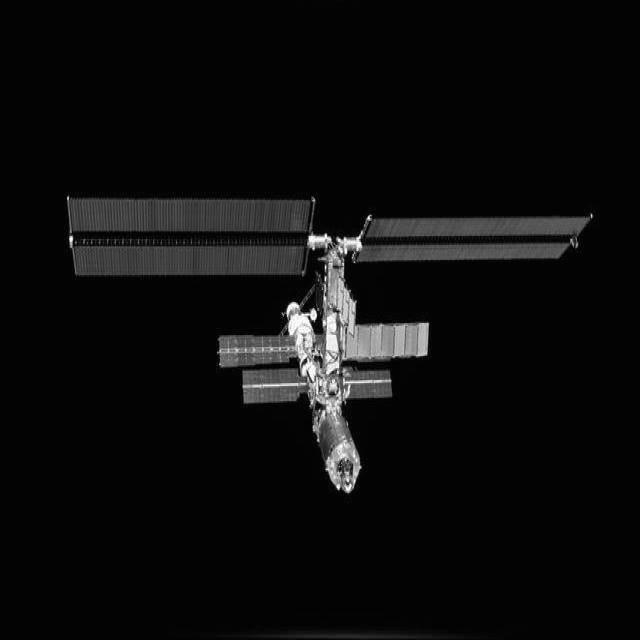satellite: (57, 182, 608, 499)
